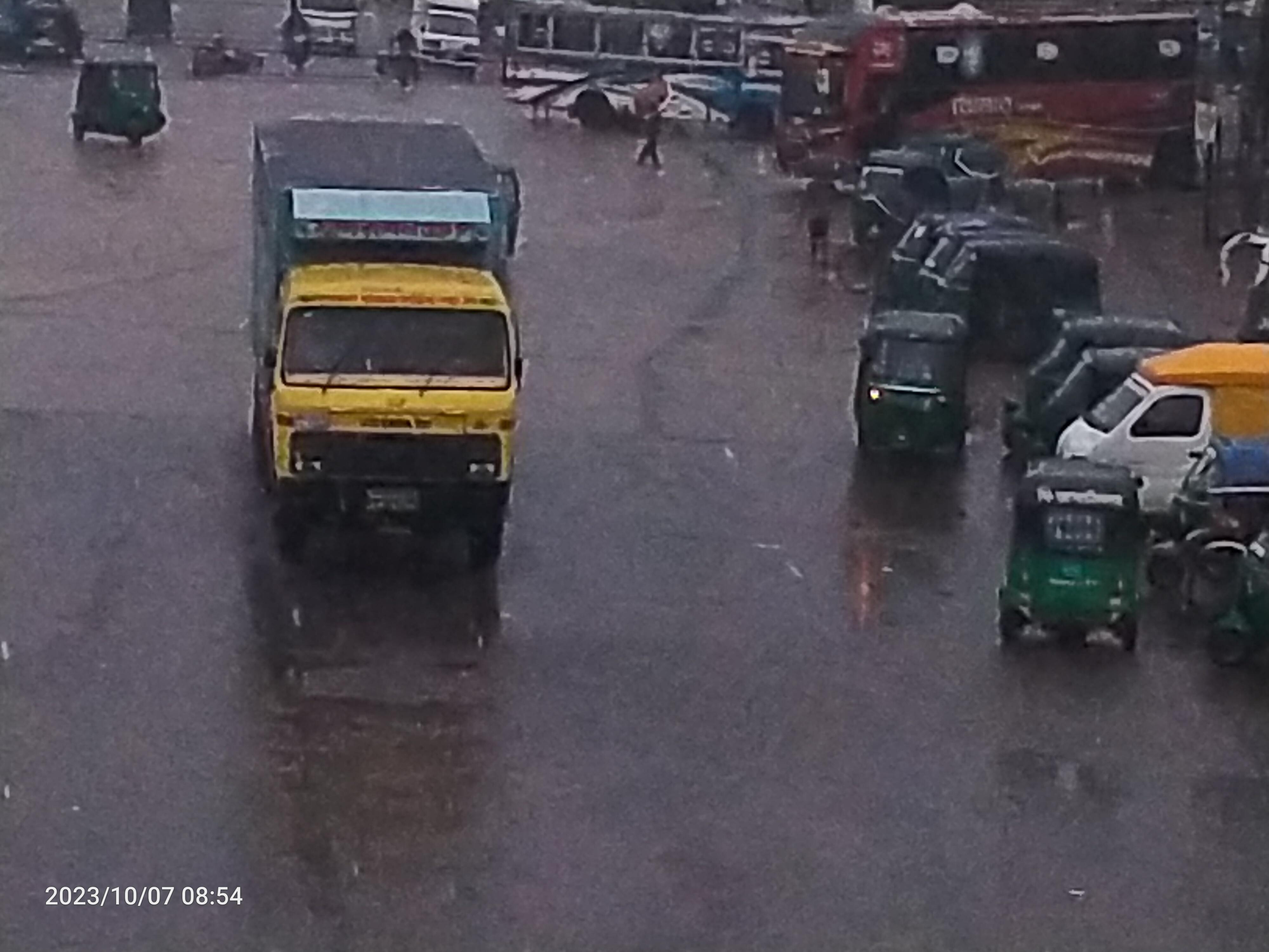Bus: (817, 7, 1212, 201), (473, 10, 796, 160)
Car: (282, 0, 385, 83), (408, 0, 497, 86)
Truck: (201, 92, 595, 642)
